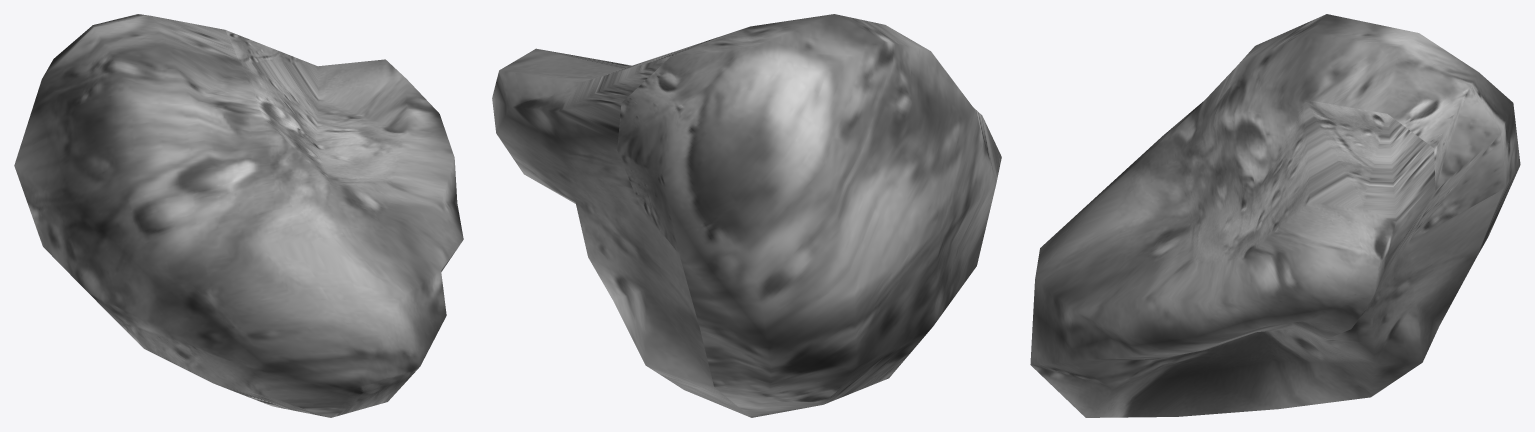
The model's file is rock.dae.
The picture shows the model from 3 angles, left to right: view 1: azimuth 30°, elevation 25°; view 2: azimuth 150°, elevation 25°; view 3: azimuth 270°, elevation 25°; orthographic projection. The views are drawn at different scales.
Visible parts, largest first — view 1: Cube; view 2: Cube; view 3: Cube.
Part boxes in pixels (<box>): Cube: <box>14,14,463,417</box>; Cube: <box>492,14,1001,417</box>; Cube: <box>1030,14,1520,417</box>.
Bounding box in the file's own units: 1.67 × 1.88 × 1.47.
1 material, 1 textured.
